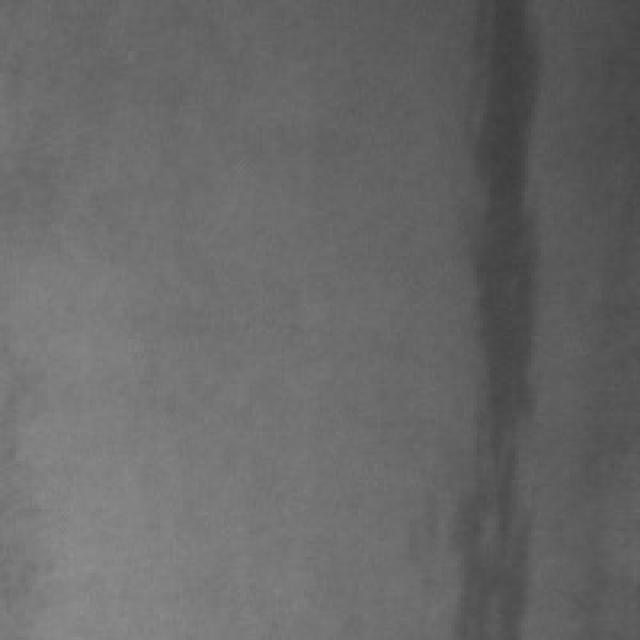inclusion: (422, 0, 544, 634)
